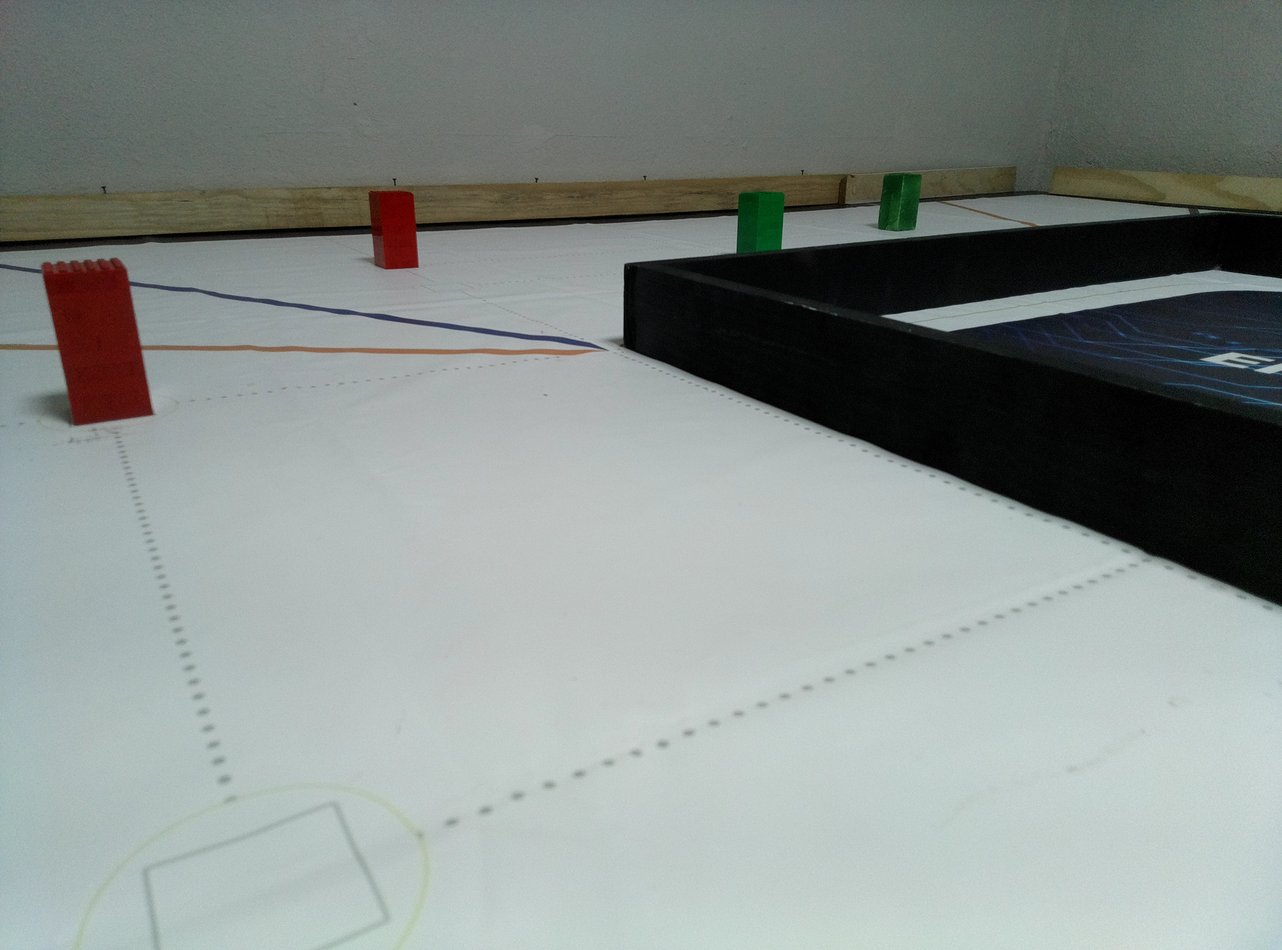greenbox: (736, 190, 784, 253), (877, 173, 922, 231)
redbox: (37, 257, 156, 427), (367, 190, 420, 269)
